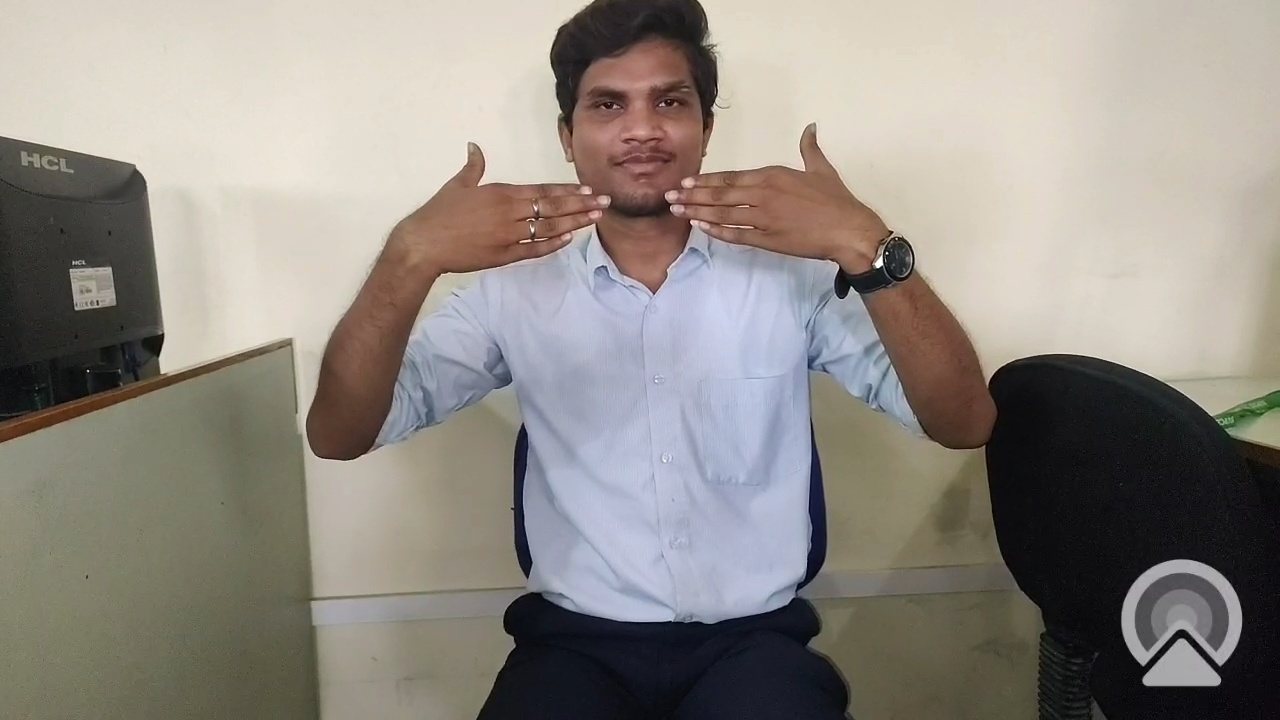Thank you: (334, 122, 980, 395)
